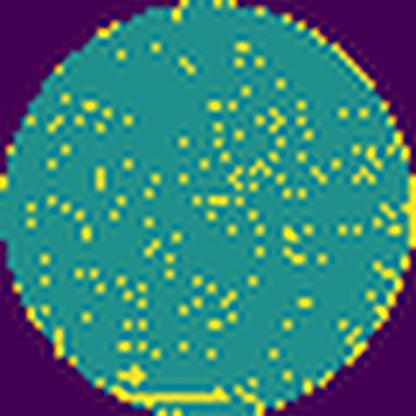Scratch: (105, 380, 236, 412)
